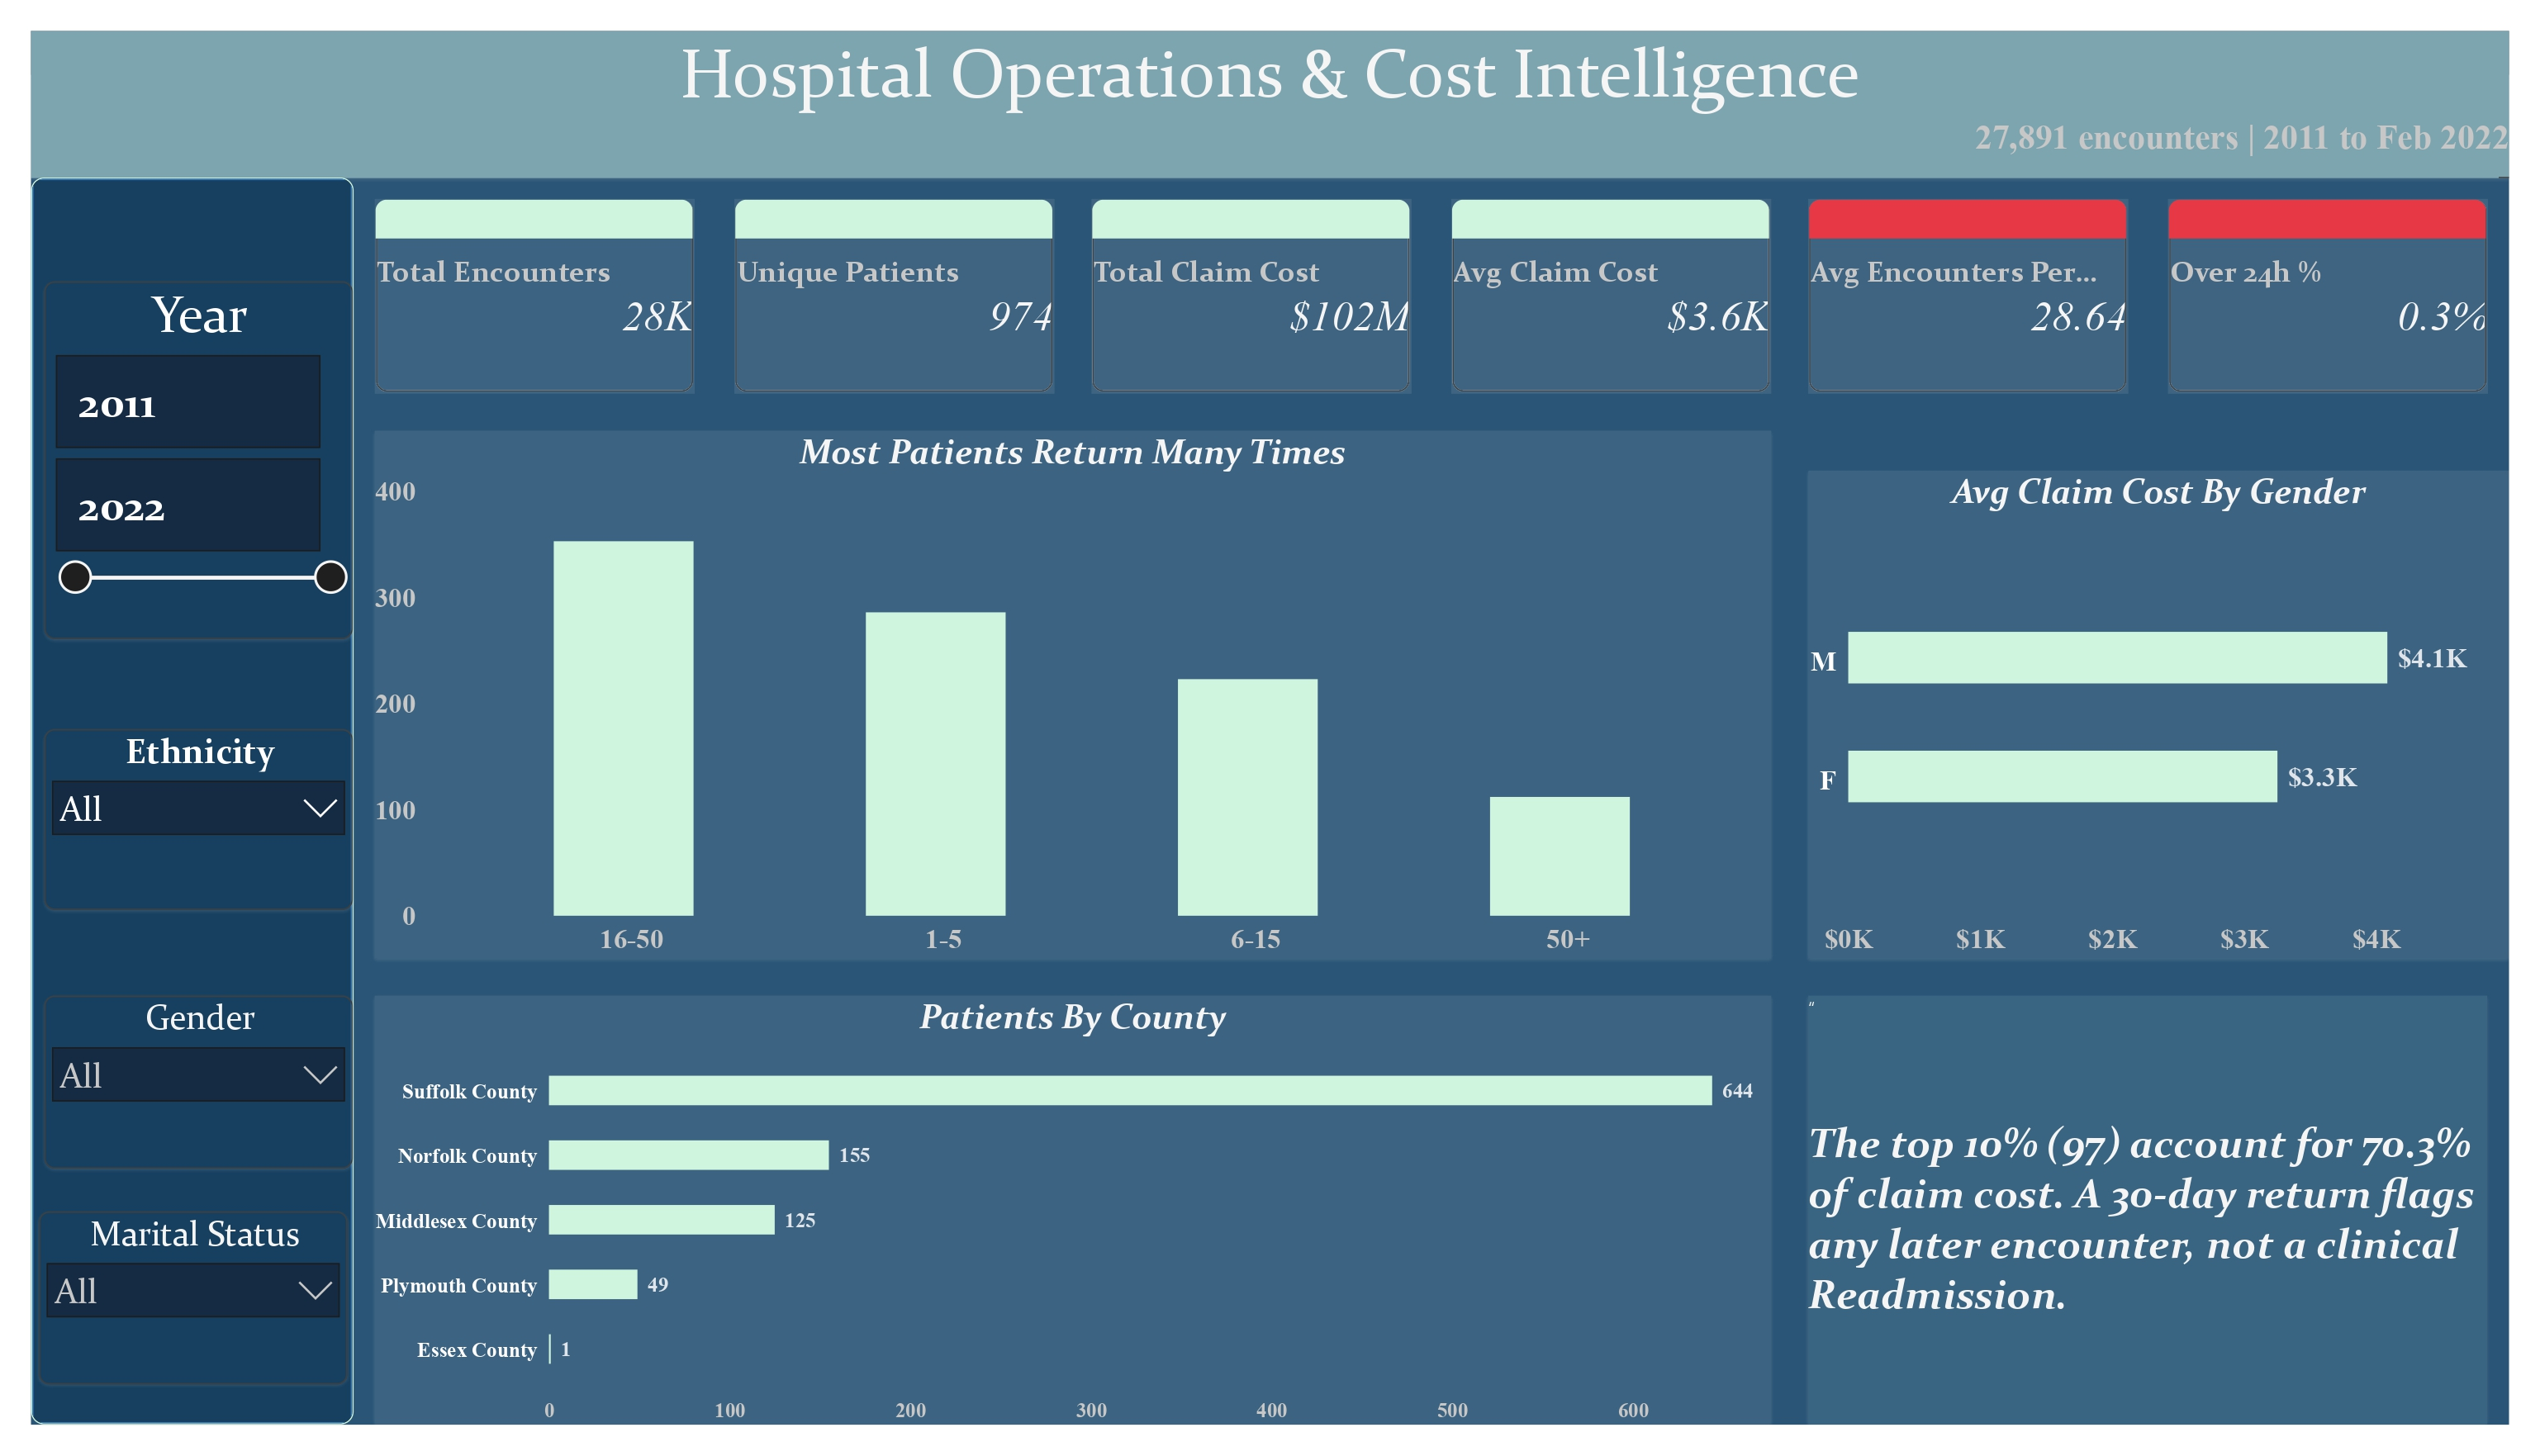

Layout of this report page (visuals, bound fields, positions):
{"tool":"powerbi","page":{"name":"Patients","canvas":[1920,1080],"ordinal":5},"visuals":[{"type":"textbox","title":"Hospital Operations & Cost Intelligence","box":[0,0,1920,113.5],"z":0},{"type":"shape","box":[0,113.5,249.8,966.2],"z":0,"group":"g1"},{"type":"group","id":"g1","title":"Group 1","box":[0,113.5,249.8,966.2],"z":1000},{"type":"slicer","title":"Year","fields":{"Values":["DimDate.Date.Variation.Date Hierarchy.Year"]},"box":[10.3,194.1,239.5,276.6],"z":2000},{"type":"slicer","title":"Ethnicity","fields":{"Values":["patients.ETHNICITY"]},"box":[10.3,540.9,239.5,140.4],"z":3000},{"type":"slicer","title":"Gender","fields":{"Values":["patients.GENDER"]},"box":[10.3,747.4,239.5,134.2],"z":4000},{"type":"cardVisual","fields":{"Data":["DimDate.Total Encounters"]},"box":[266.3,130.1,247.7,150.7],"z":5000},{"type":"cardVisual","fields":{"Data":["DimDate.Unique Patients"]},"box":[545,130.1,247.7,150.7],"z":6000},{"type":"cardVisual","fields":{"Data":["encounters.Total Claim Cost"]},"box":[821.7,130.1,247.7,150.7],"z":7000},{"type":"cardVisual","fields":{"Data":["encounters.Avg Claim Cost"]},"box":[1100.4,130.1,247.7,150.7],"z":8000},{"type":"cardVisual","fields":{"Data":["DimDate.Avg Encounters Per Patient"]},"box":[1377,130.1,247.7,150.7],"z":9000},{"type":"cardVisual","fields":{"Data":["encounters.Over 24h %"]},"box":[1655.7,130.1,247.7,150.7],"z":10000},{"type":"clusteredColumnChart","title":"Most Patients Return Many Times","fields":{"Category":["patients.Encounter Band"],"Y":["DimDate.Unique Patients"]},"box":[266.3,309.7,1081.8,408.8],"z":11000},{"type":"clusteredBarChart","title":"Patients By County","fields":{"Category":["patients.COUNTY"],"Y":["DimDate.Unique Patients"]},"box":[266.3,747.4,1081.8,332.4],"z":12000},{"type":"textbox","box":[1377,747.4,526.5,332.4],"z":15000},{"type":"clusteredBarChart","title":"Avg Claim Cost By Gender","fields":{"Category":["patients.GENDER"],"Y":["encounters.Avg Claim Cost"]},"box":[1377,340.6,543,377.8],"z":15001},{"type":"slicer","title":"Marital Status","fields":{"Values":["patients.MARITAL"]},"box":[6.2,914.6,239.5,134.2],"z":15002}]}

Visuals, with their boxes on the page's 1920x1080 design canvas (x1, y1, x2, y2). These are canvas units, not pixel positions in the 2540x1456 screenshot, which may show the page scaled, cropped or inside an application window:
"Hospital Operations & Cost Intelligence" textbox: {"left": 0, "top": 0, "right": 1920, "bottom": 114}
shape: {"left": 0, "top": 114, "right": 250, "bottom": 1080}
"Group 1" group: {"left": 0, "top": 114, "right": 250, "bottom": 1080}
"Year" slicer: {"left": 10, "top": 194, "right": 250, "bottom": 471}
"Ethnicity" slicer: {"left": 10, "top": 541, "right": 250, "bottom": 681}
"Gender" slicer: {"left": 10, "top": 747, "right": 250, "bottom": 882}
cardVisual - DimDate.Total Encounters: {"left": 266, "top": 130, "right": 514, "bottom": 281}
cardVisual - DimDate.Unique Patients: {"left": 545, "top": 130, "right": 793, "bottom": 281}
cardVisual - encounters.Total Claim Cost: {"left": 822, "top": 130, "right": 1069, "bottom": 281}
cardVisual - encounters.Avg Claim Cost: {"left": 1100, "top": 130, "right": 1348, "bottom": 281}
cardVisual - DimDate.Avg Encounters Per Patient: {"left": 1377, "top": 130, "right": 1625, "bottom": 281}
cardVisual - encounters.Over 24h %: {"left": 1656, "top": 130, "right": 1903, "bottom": 281}
"Most Patients Return Many Times" clusteredColumnChart: {"left": 266, "top": 310, "right": 1348, "bottom": 718}
"Patients By County" clusteredBarChart: {"left": 266, "top": 747, "right": 1348, "bottom": 1080}
textbox: {"left": 1377, "top": 747, "right": 1904, "bottom": 1080}
"Avg Claim Cost By Gender" clusteredBarChart: {"left": 1377, "top": 341, "right": 1920, "bottom": 718}
"Marital Status" slicer: {"left": 6, "top": 915, "right": 246, "bottom": 1049}
